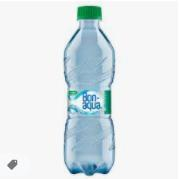bottle: (61, 4, 117, 177)
